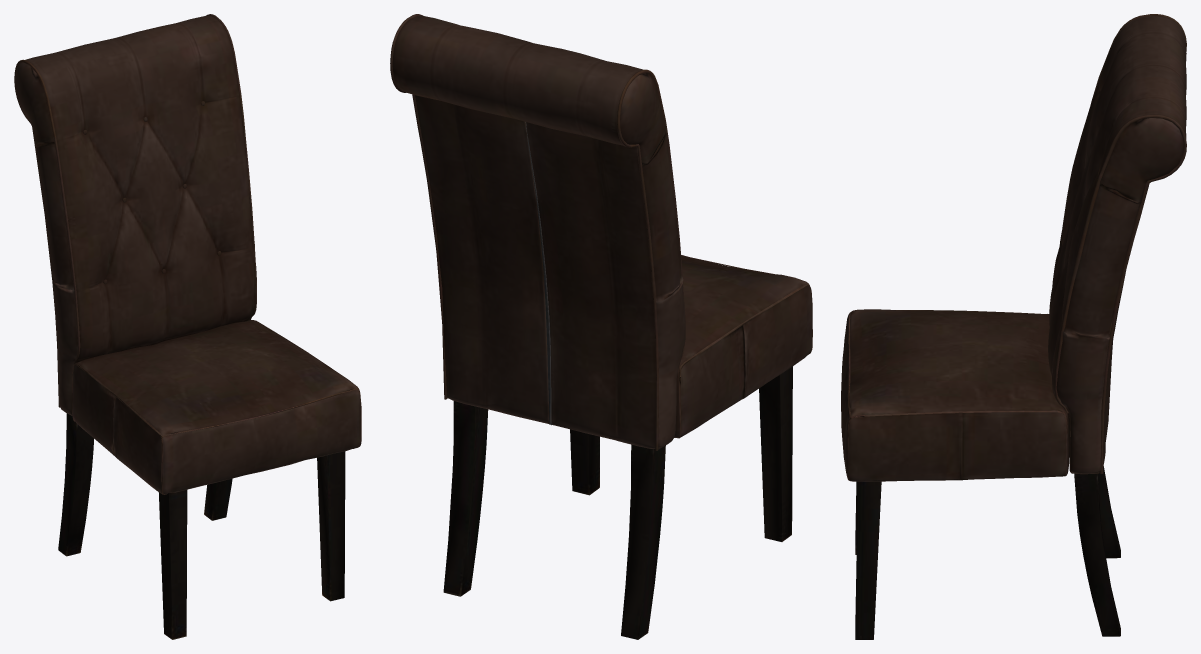
Rendered from dining_chair_02.glb.
3 views of the same model, side by side, from view 1: azimuth 30°, elevation 25°; view 2: azimuth 150°, elevation 25°; view 3: azimuth 270°, elevation 25° (orthographic). The views are drawn at different scales.
Size of the model in its own units: 0.4336 by 0.9733 by 0.5764.
1 material, 1 textured.
